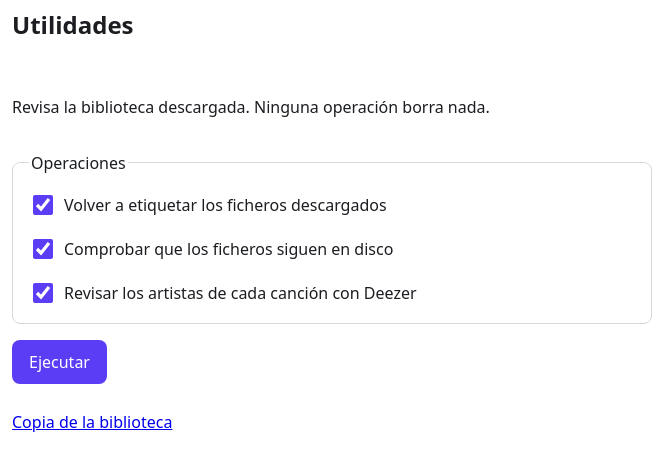
Test: UtilitiesView › no deja lanzar sin operaciones
The width and height of the screenshot is (669, 449).
What coordinates should you click on to do the following:
click the checkbox labelled "Volver a etiquetar los ficheros descargados"
I would click on:
 (43, 205)
Its box is 33,195 -> 53,215.
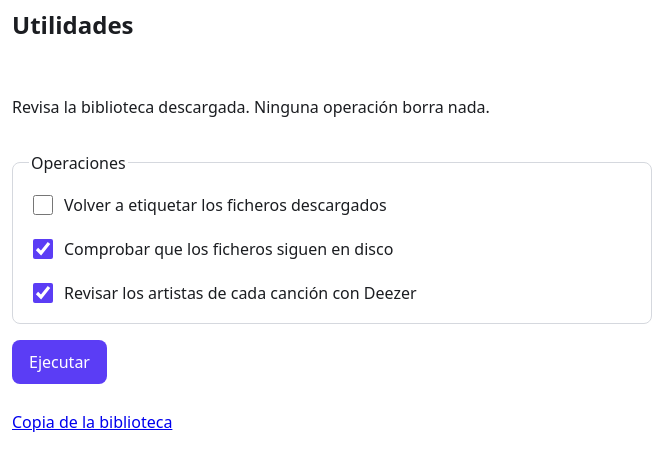
What coordinates should you click on to do the following:
click the checkbox labelled "Comprobar que los ficheros siguen en disco"
I would click on:
 (43, 249)
Its box is 33,239 -> 53,259.
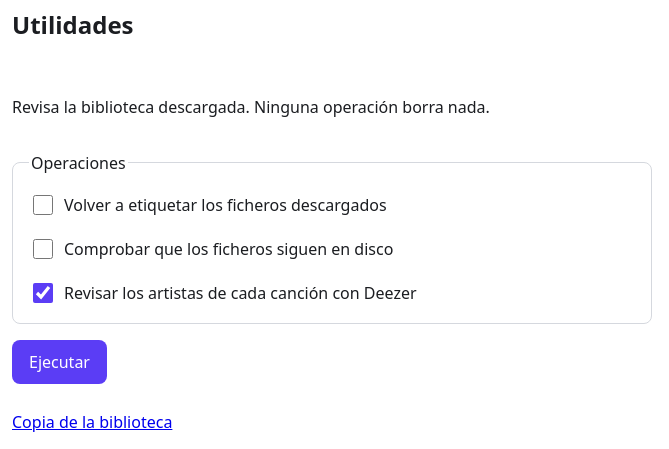
What coordinates should you click on to do the following:
click the checkbox labelled "Revisar los artistas de cada canción con Deezer"
I would click on:
 (43, 293)
Its box is 33,283 -> 53,303.
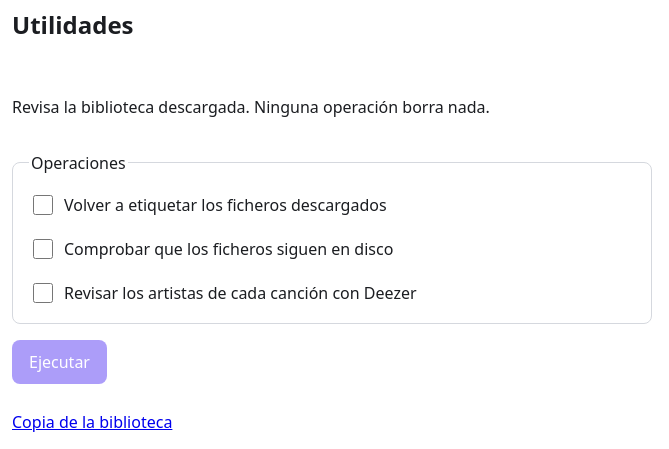
Check: the button "Ejecutar" is disabled, box 12,340 -> 107,384
